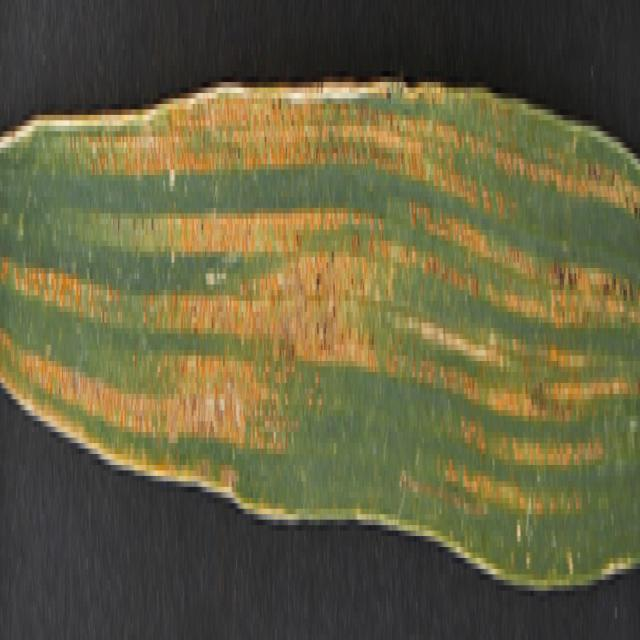leaf rust: (1, 93, 637, 536)
